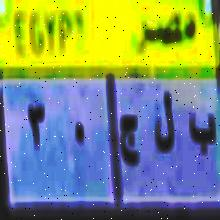0: (70, 112, 90, 152)
3: (27, 98, 46, 159)
baa: (188, 110, 216, 161)
jeem: (118, 111, 144, 175)
laam: (154, 92, 178, 165)
